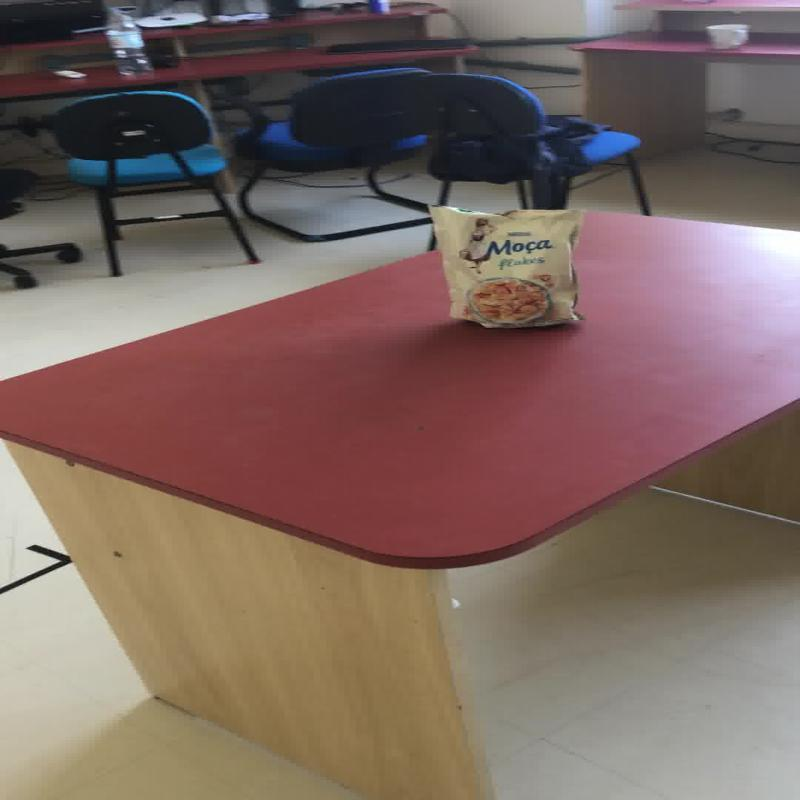corn flakes: (426, 204, 584, 328), (469, 276, 549, 322)
